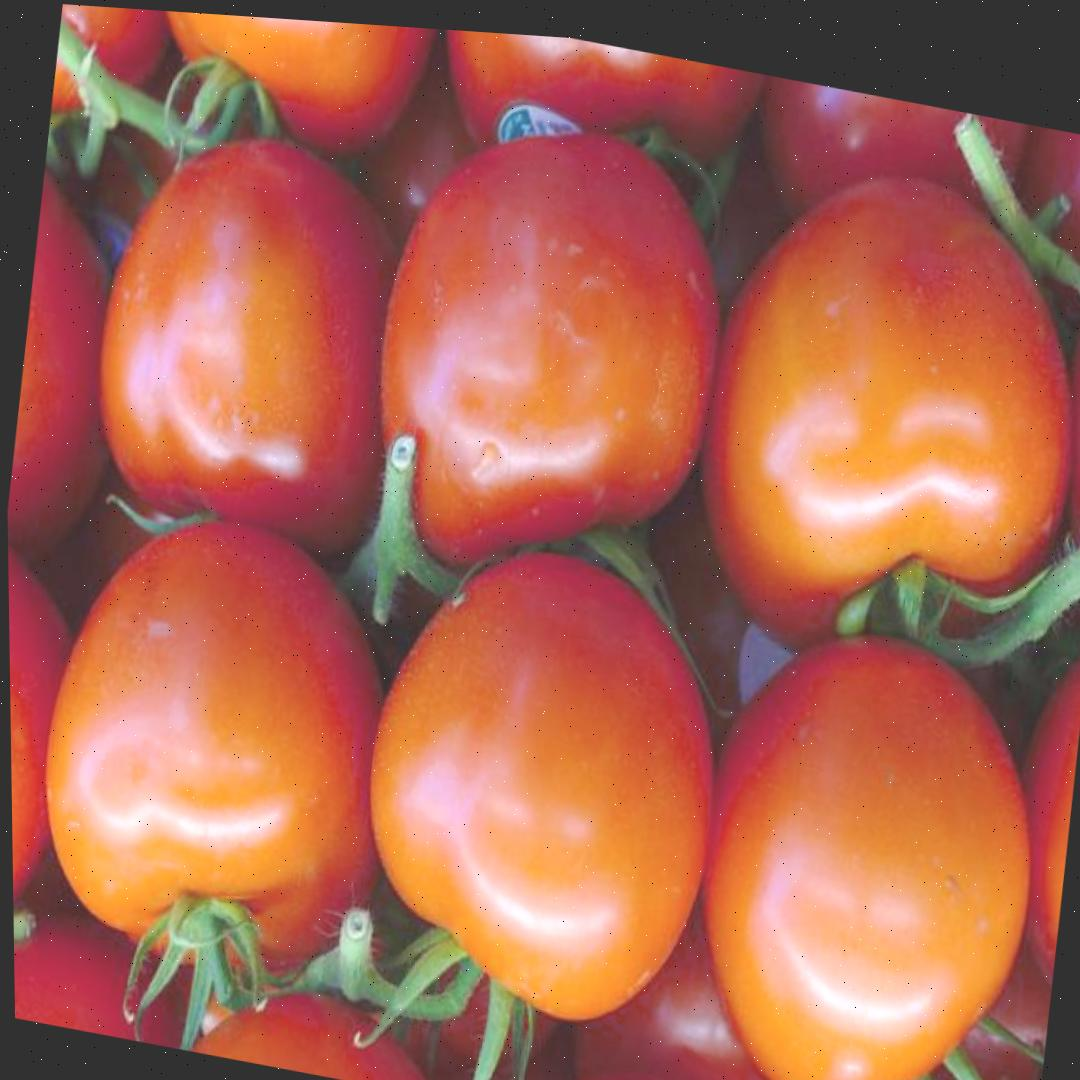matang: (669, 138, 1080, 706), (16, 481, 427, 1007), (341, 517, 741, 1046), (352, 95, 744, 616), (669, 602, 1058, 1080), (78, 112, 426, 566)
